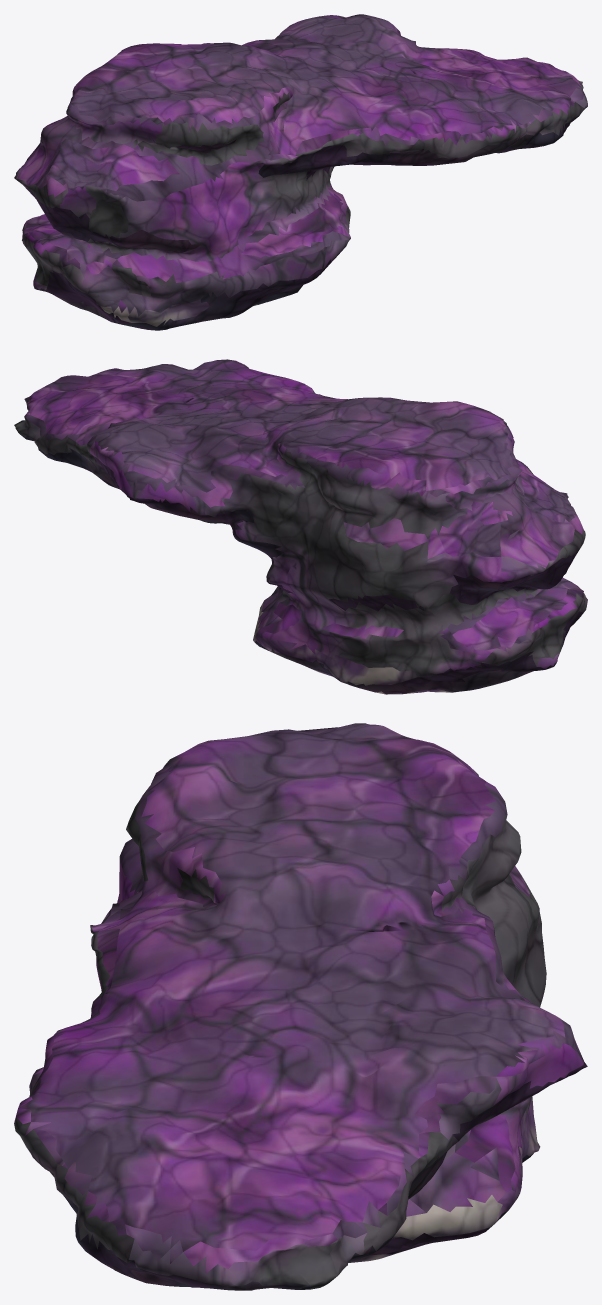
The model's file is reef-nsa-cantilever-shelf.glb.
3 views of the same model, one above another, from view 1: azimuth 30°, elevation 25°; view 2: azimuth 150°, elevation 25°; view 3: azimuth 270°, elevation 25° (orthographic). The views are drawn at different scales.
Parts seen in each view (by area): view 1: Reef_NSA_Cantilever_Shelf; view 2: Reef_NSA_Cantilever_Shelf; view 3: Reef_NSA_Cantilever_Shelf.
Boxes of the visible parts, box(x1,y1,x2,y2) form: Reef_NSA_Cantilever_Shelf: box(14, 14, 587, 330); Reef_NSA_Cantilever_Shelf: box(14, 359, 587, 694); Reef_NSA_Cantilever_Shelf: box(14, 723, 587, 1290).
Size of the model in its own units: 0.7109 by 0.2705 by 0.3587.
1 material, 1 textured.
